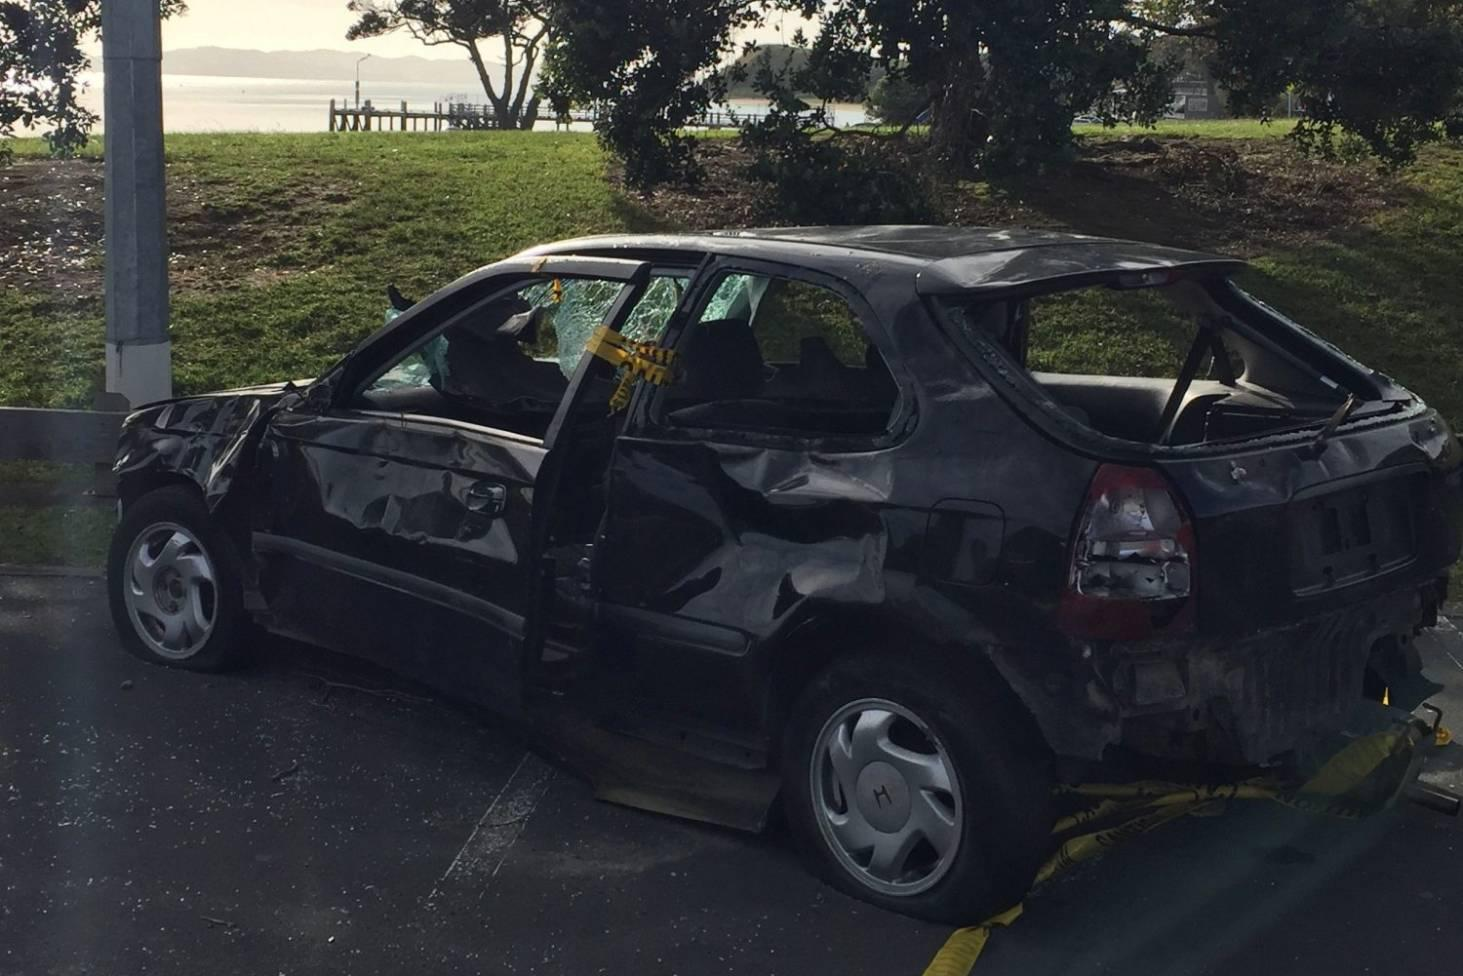Taillight-Damage: (1073, 466, 1212, 639)
doorouter-dent: (524, 427, 899, 731), (263, 420, 546, 725)
fender-dent: (119, 406, 253, 561)
